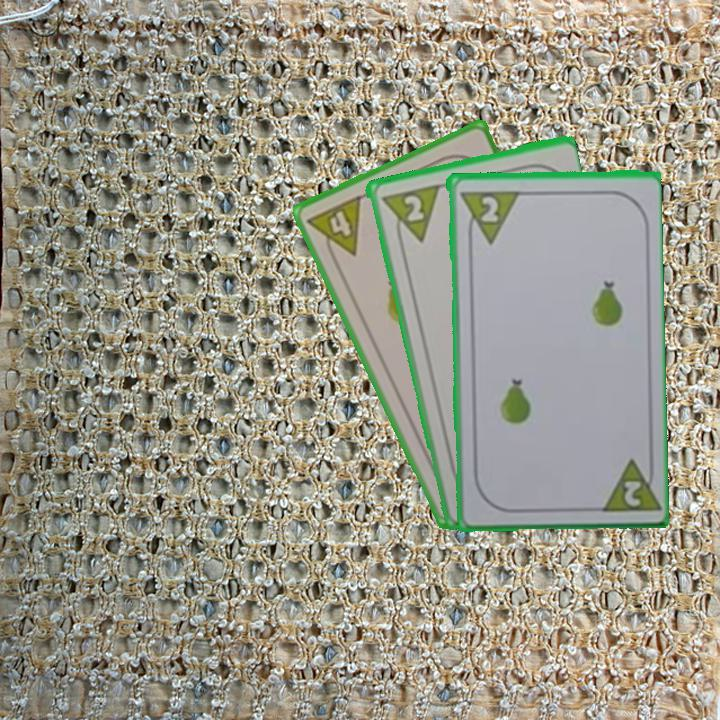2p: (594, 453, 659, 514), (455, 186, 519, 246), (400, 191, 427, 224)
4p: (303, 191, 365, 267)
